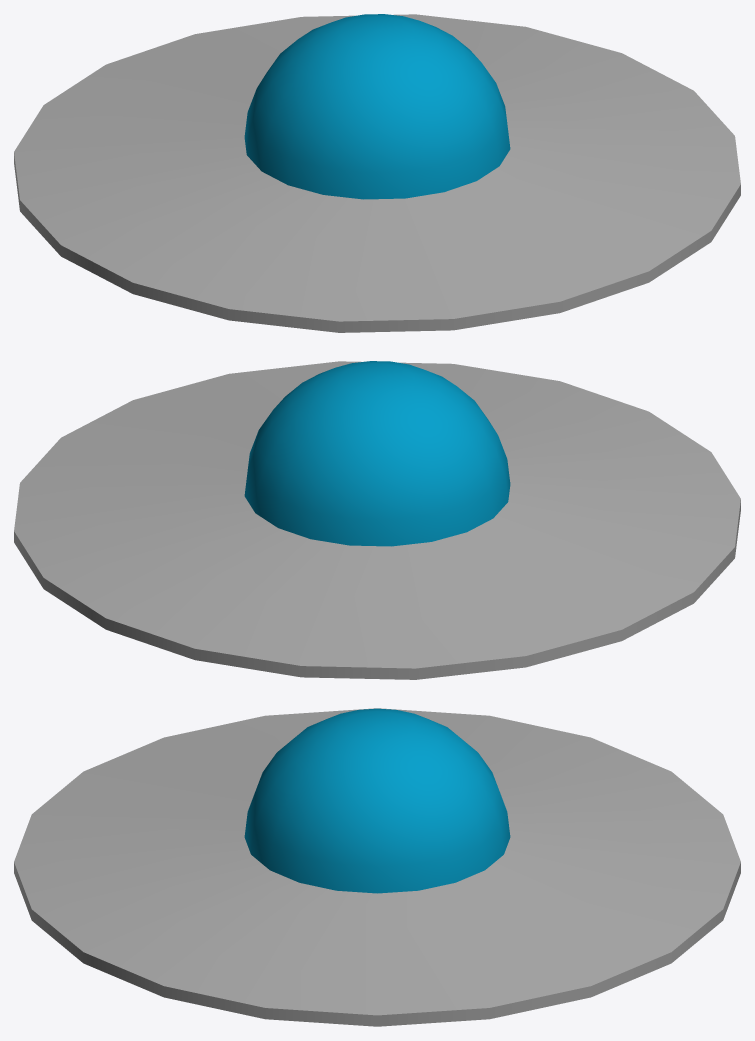
Rendered from UFO.fbx.
The picture shows the model from 3 angles, top to bottom: view 1: azimuth 30°, elevation 25°; view 2: azimuth 150°, elevation 25°; view 3: azimuth 270°, elevation 25°; orthographic projection.
Visible parts, largest first — view 1: UFO; view 2: UFO; view 3: UFO.
Boxes of the visible parts, x1,y1,x2,y2 form: UFO: (14,14,740,332); UFO: (14,361,740,679); UFO: (14,708,740,1026).
Bounding box in the file's own units: 5.32 × 1.45 × 5.32.
